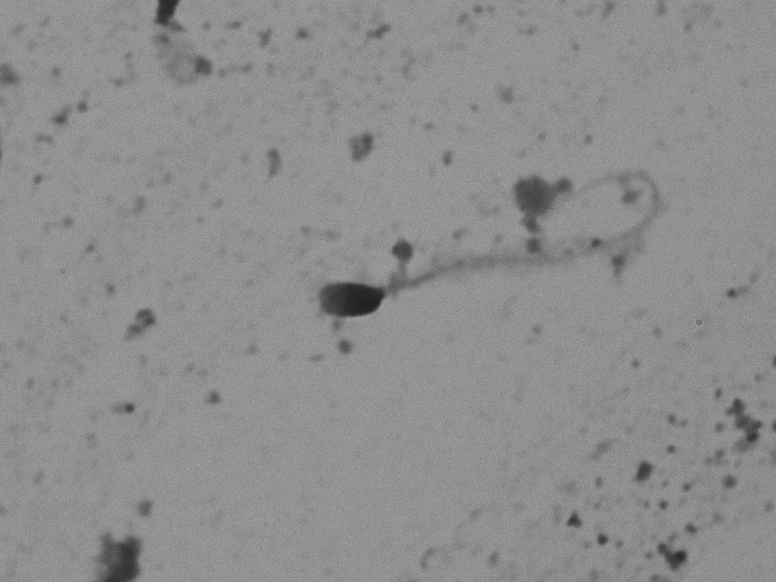Abnormal: (276, 158, 675, 345)
